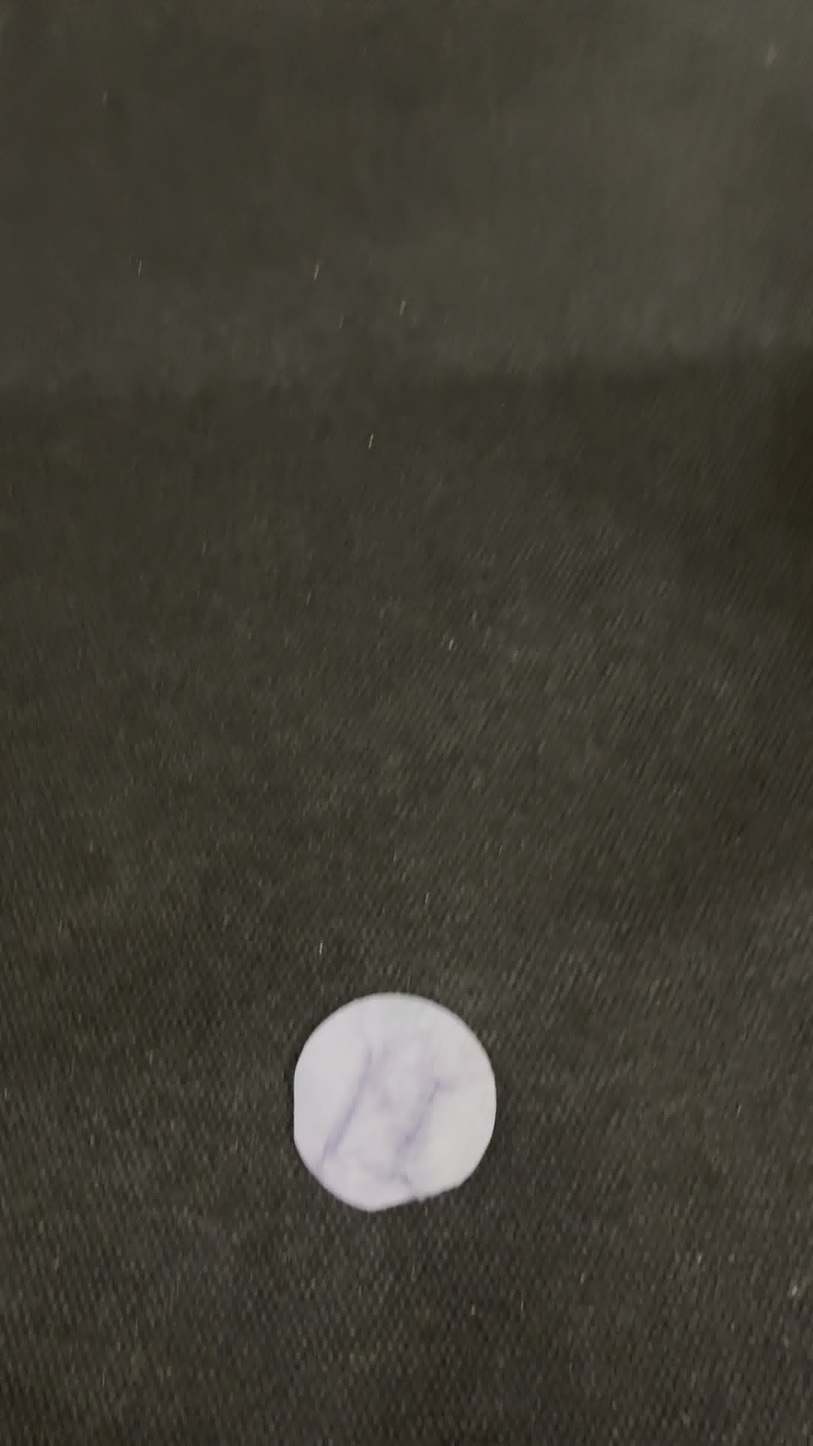Target: (288, 985, 499, 1214)
